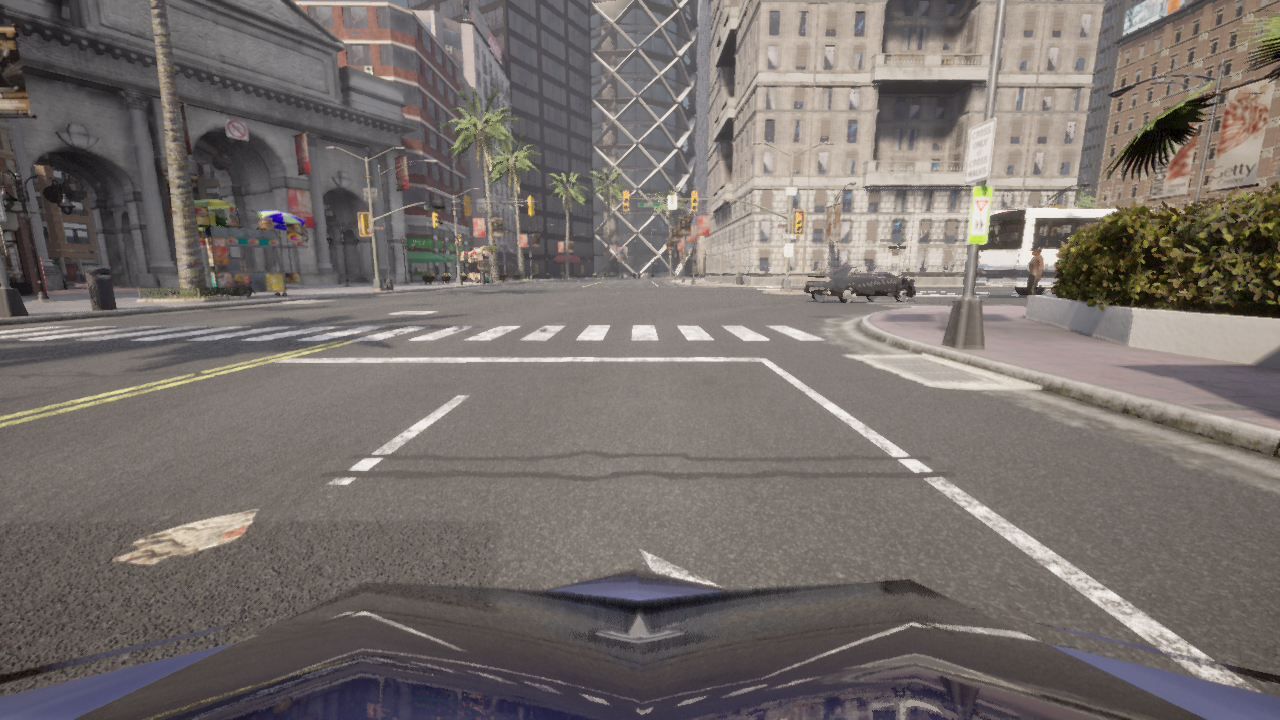cyclist: (0, 569, 1279, 719), (975, 207, 1187, 296), (803, 266, 914, 303)
pedestrian: (1023, 248, 1043, 307), (815, 264, 821, 273), (824, 264, 827, 269)
